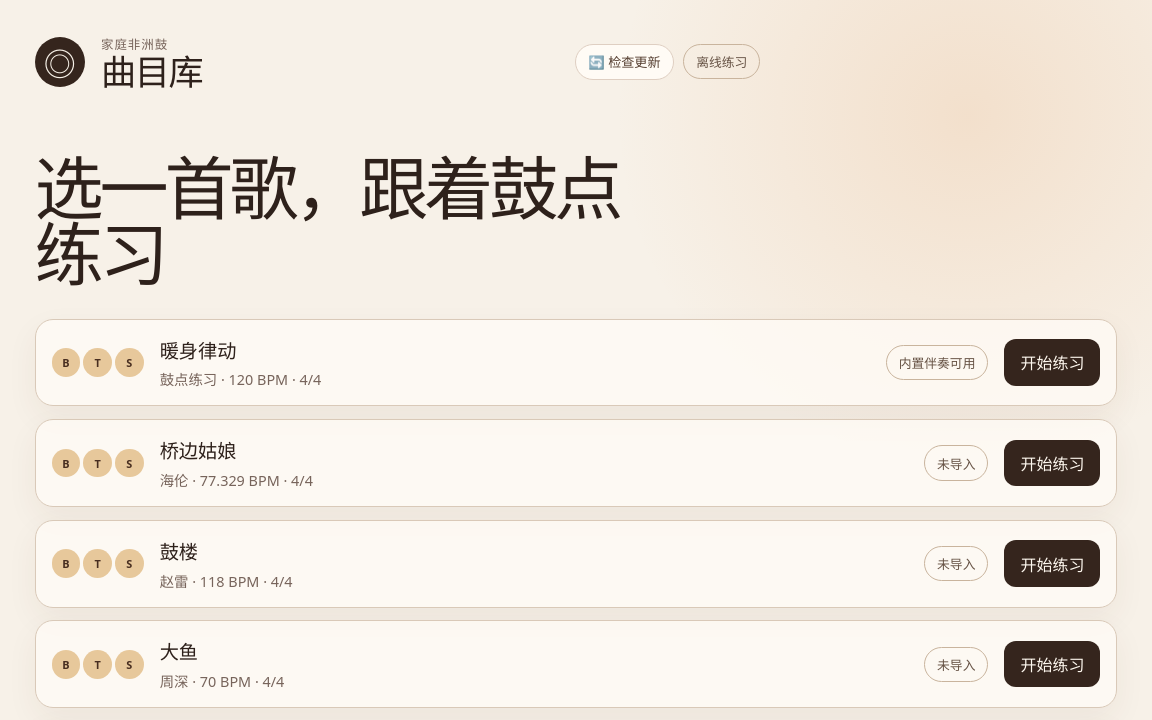
it: App › opens 桥边姑娘 with the official score: sections, lyrics and tempo
The image size is (1152, 720).
Click the button with aria-label "开始练习 桥边姑娘" at {"x": 1052, "y": 463}, box [1004,440,1100,486]
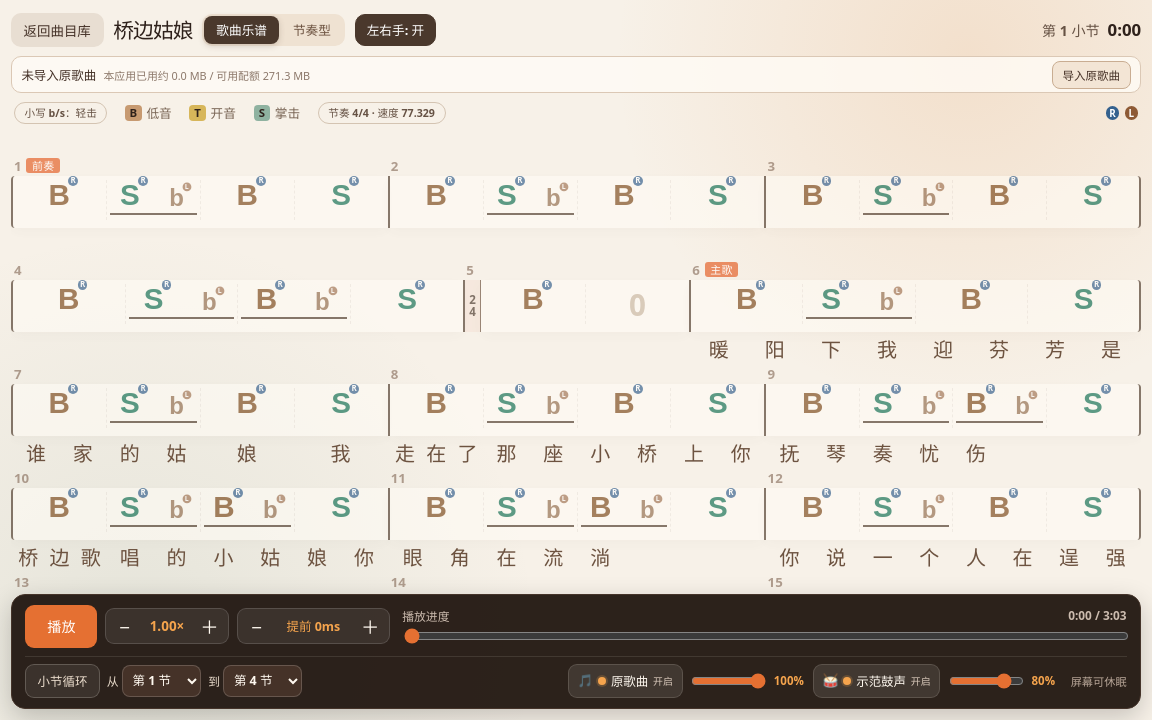
Result: the text "前奏" is shown at [26,158,60,173]
Result: the text "节奏 4/4 · 速度 77.329" is shown at [318,102,446,124]
Result: the element named "第 1 小节" is shown at [11,157,388,228]
